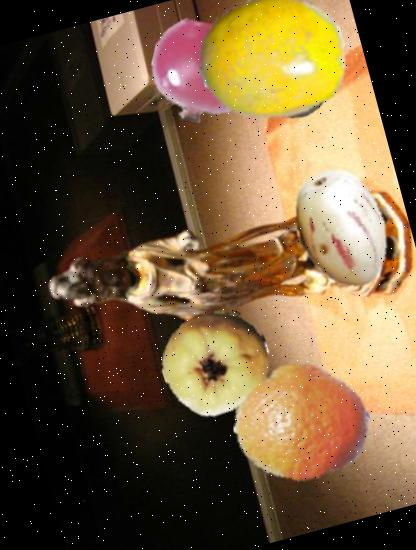Mandarine: (218, 338, 386, 506)
Maracuja: (183, 0, 362, 146)
Pepino: (267, 154, 416, 304)
Quince: (150, 296, 282, 428)
Redcurrant: (139, 9, 266, 136)
Walnut: (248, 31, 344, 128)
